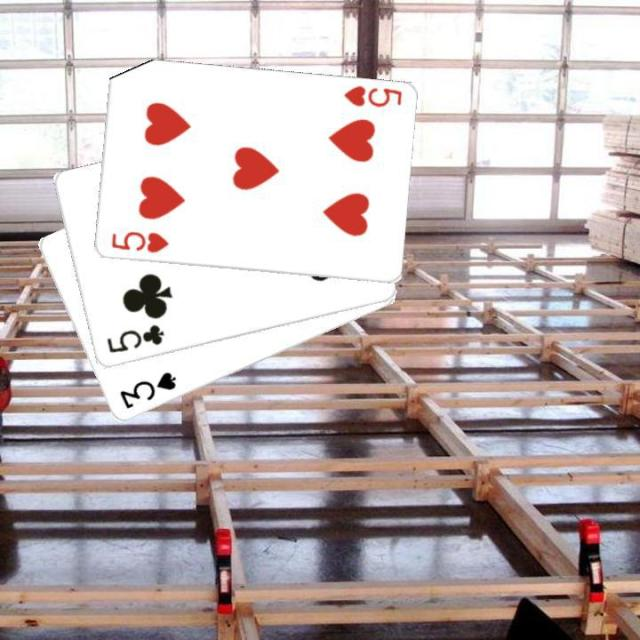3S: (116, 368, 178, 412)
5C: (102, 321, 166, 355)
5H: (106, 228, 170, 255), (338, 82, 402, 109)
